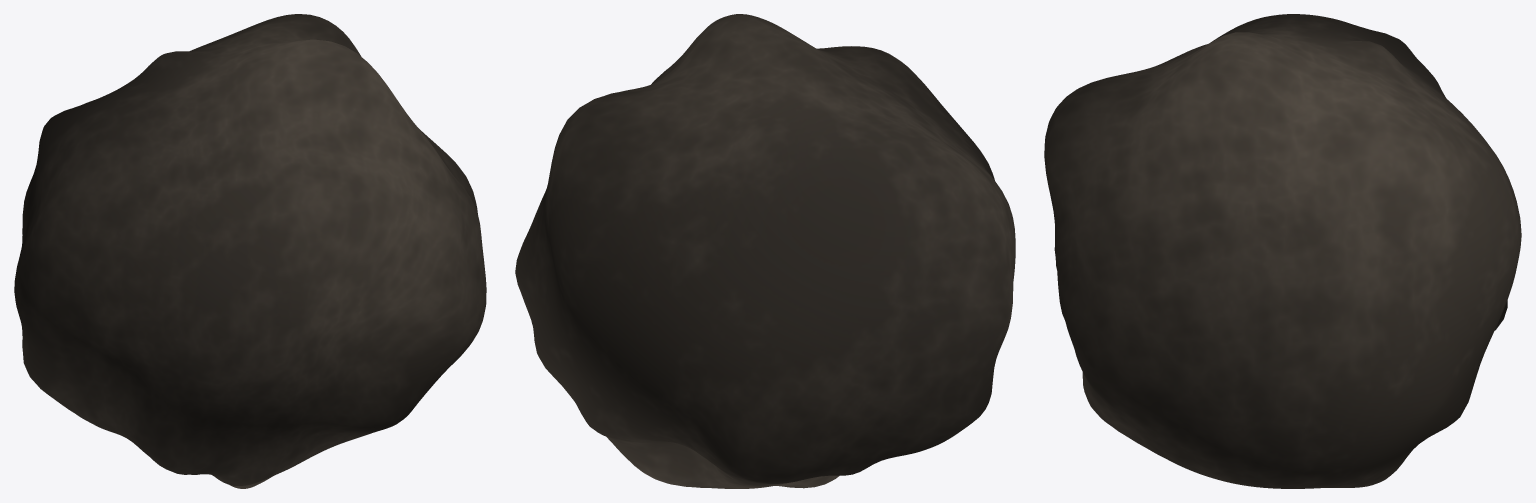
File: asteroid-marble.glb
The picture shows the model from 3 angles, left to right: view 1: azimuth 30°, elevation 25°; view 2: azimuth 150°, elevation 25°; view 3: azimuth 270°, elevation 25°; orthographic projection. The views are drawn at different scales.
Visible parts, largest first — view 1: asteroid_5001; view 2: asteroid_5001; view 3: asteroid_5001.
Boxes of the visible parts, <box> form: asteroid_5001: <box>14,14,486,488</box>; asteroid_5001: <box>515,14,1015,488</box>; asteroid_5001: <box>1044,14,1521,488</box>.
Bounding box in the file's own units: 51.09 × 47.96 × 45.74.
1 material, 1 textured.
